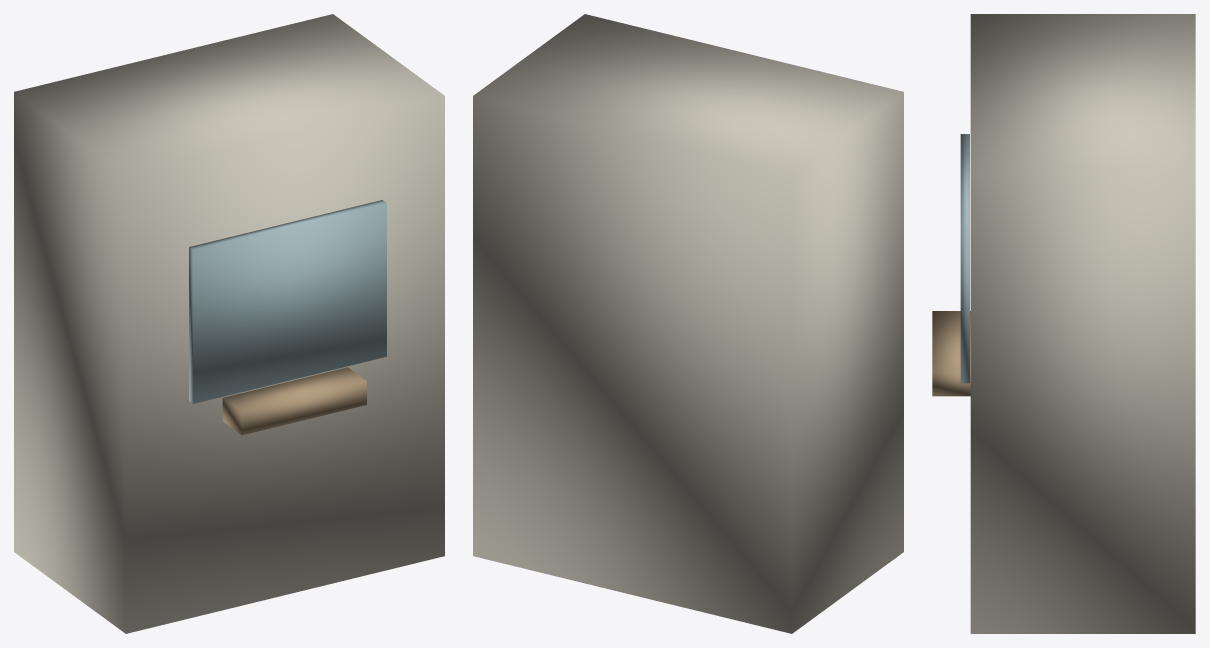
The model's file is ticket_booth__reinforced.glb.
3 views of the same model, side by side, from view 1: azimuth 30°, elevation 25°; view 2: azimuth 150°, elevation 25°; view 3: azimuth 270°, elevation 25° (orthographic).
Visible parts, largest first — view 1: world; view 2: world; view 3: world.
Boxes of the visible parts, <box> form: world: <box>14,14,444,633</box>; world: <box>473,14,903,633</box>; world: <box>932,14,1195,633</box>.
Bounding box in the file's own units: 1.44 × 1.99 × 1.02.
